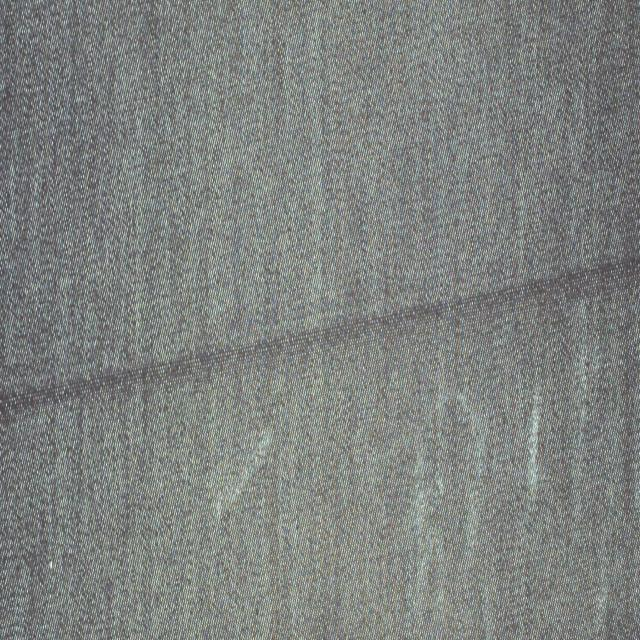Line: (0, 252, 640, 414)
